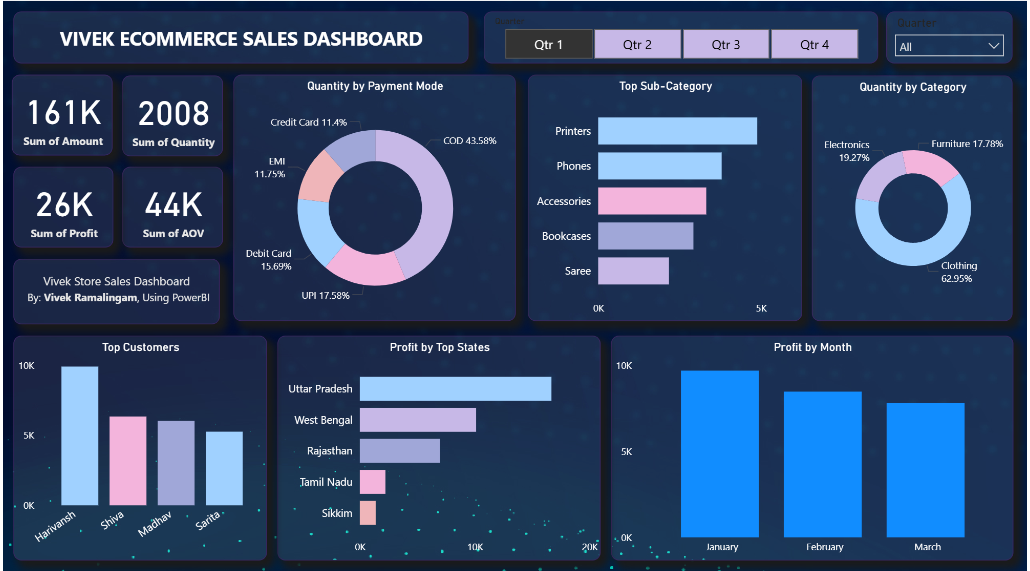

The dashboard page shown, as its layout file describes it:
{"tool":"powerbi","page":{"name":"Page 1","canvas":[1280,720],"ordinal":0},"visuals":[{"type":"textbox","box":[12.5,12.5,569.4,65.3],"z":0},{"type":"columnChart","title":"Profit by Month","fields":{"Category":["Orders.Order Date.Variation.Date Hierarchy.Month"],"Y":["Details.Profit"]},"box":[759.7,418.1,502.8,280.6],"z":1000},{"type":"barChart","title":"Top Sub-Category","fields":{"Category":["Details.Sub-Category"],"Y":["Details.Profit"]},"box":[655.6,91.7,343.1,308.3],"z":2000},{"type":"donutChart","title":"Quantity by Category","fields":{"Category":["Details.Category"],"Y":["Details.Quantity"]},"box":[1011.1,93.1,251.4,306.9],"z":3000},{"type":"donutChart","title":"Quantity by Payment Mode","fields":{"Category":["Details.PaymentMode"],"Y":["Details.Quantity"]},"box":[287.5,91.7,352.8,308.3],"z":4000},{"type":"card","fields":{"Values":["Details.Average Order Value"]},"box":[148.6,206.9,126.4,101.4],"z":5000},{"type":"card","fields":{"Values":["Details.Quantity"]},"box":[148.6,93.1,126.4,101.4],"z":6000},{"type":"card","fields":{"Values":["Details.Profit"]},"box":[12.5,206.9,125,101.4],"z":7000},{"type":"card","fields":{"Values":["Details.Amount"]},"box":[11.1,91.7,126.4,101.4],"z":8000},{"type":"barChart","title":"Profit by Top States","fields":{"Category":["Orders.State"],"Y":["Details.Amount"]},"box":[343.1,418.1,404.2,280.6],"z":9000},{"type":"columnChart","title":"Top Customers","fields":{"Category":["Orders.CustomerName"],"Y":["Details.Amount"]},"box":[12.5,418.1,316.7,280.6],"z":10000},{"type":"textbox","box":[12.5,322.2,258.3,81.9],"z":11000},{"type":"slicer","fields":{"Values":["Orders.Order Date.Variation.Date Hierarchy.Quarter"]},"box":[601.4,12.5,493.1,65.3],"z":12000},{"type":"slicer","fields":{"Values":["Orders.Order Date.Variation.Date Hierarchy.Quarter"]},"box":[1104.2,12.5,158.3,65.3],"z":13000}]}

Visuals, with their boxes in screenshot pixels (x1, y1, x2, y2), scaled from the page's 1280x720 canvas onto the 1030x571 screenshot:
textbox: region(10, 10, 468, 62)
"Profit by Month" columnChart: region(611, 332, 1016, 554)
"Top Sub-Category" barChart: region(528, 73, 804, 317)
"Quantity by Category" donutChart: region(814, 74, 1016, 317)
"Quantity by Payment Mode" donutChart: region(231, 73, 515, 317)
card - Details.Average Order Value: region(120, 164, 221, 244)
card - Details.Quantity: region(120, 74, 221, 154)
card - Details.Profit: region(10, 164, 111, 244)
card - Details.Amount: region(9, 73, 111, 153)
"Profit by Top States" barChart: region(276, 332, 601, 554)
"Top Customers" columnChart: region(10, 332, 265, 554)
textbox: region(10, 256, 218, 320)
slicer - Orders.Order Date.Variation.Date Hierarchy.Quarter: region(484, 10, 881, 62)
slicer - Orders.Order Date.Variation.Date Hierarchy.Quarter: region(889, 10, 1016, 62)
